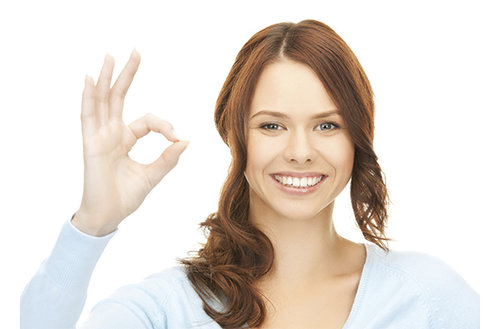face: (245, 57, 355, 220)
hand: (80, 47, 190, 228)
